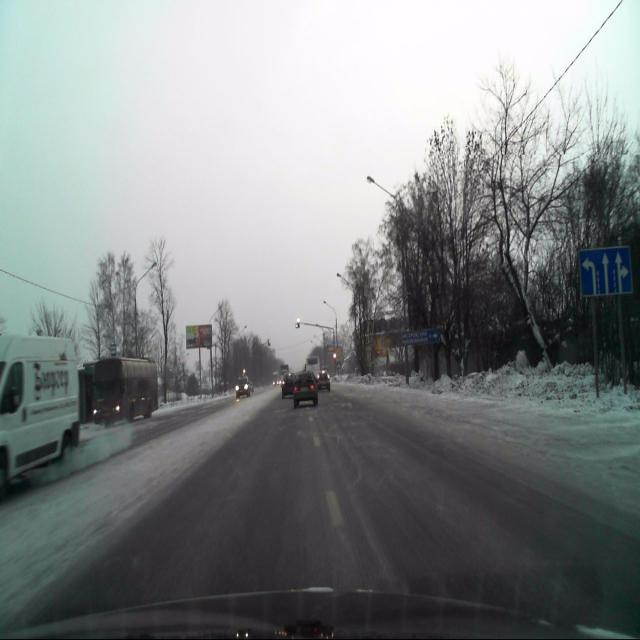road sign: (578, 244, 633, 296)
